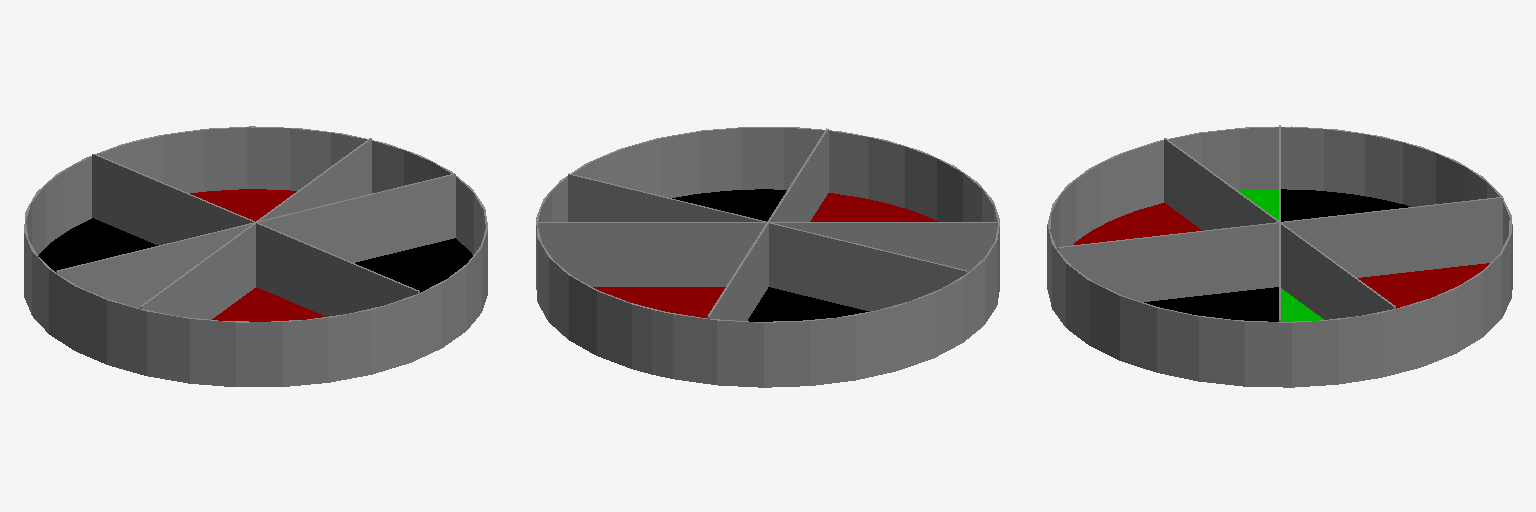
File: Roulette.obj
The picture shows the model from 3 angles: view 1: azimuth 30°, elevation 25°; view 2: azimuth 150°, elevation 25°; view 3: azimuth 270°, elevation 25°; orthographic projection.
Parts seen in each view (by area): view 1: Shape_IndexedFaceSet.003, Shape_IndexedFaceSet.002, Shape_IndexedFaceSet.004, Shape_IndexedFaceSet.001, Shape_IndexedFaceSet; view 2: Shape_IndexedFaceSet.003, Shape_IndexedFaceSet, Shape_IndexedFaceSet.004, Shape_IndexedFaceSet.001, Shape_IndexedFaceSet.002; view 3: Shape_IndexedFaceSet.003, Shape_IndexedFaceSet.002, Shape_IndexedFaceSet, Shape_IndexedFaceSet.004, Shape_IndexedFaceSet.001, Shape_IndexedFaceSet.005, Shape_IndexedFaceSet.006.
Part boxes in pixels (bbox=[...]): Shape_IndexedFaceSet.003: bbox=[24, 126, 487, 386]; Shape_IndexedFaceSet.002: bbox=[355, 238, 472, 292]; Shape_IndexedFaceSet.004: bbox=[38, 218, 157, 271]; Shape_IndexedFaceSet.001: bbox=[212, 287, 325, 321]; Shape_IndexedFaceSet: bbox=[190, 189, 296, 221]; Shape_IndexedFaceSet.003: bbox=[536, 127, 999, 387]; Shape_IndexedFaceSet: bbox=[593, 287, 725, 317]; Shape_IndexedFaceSet.004: bbox=[748, 287, 868, 321]; Shape_IndexedFaceSet.001: bbox=[810, 193, 938, 221]; Shape_IndexedFaceSet.002: bbox=[672, 189, 786, 221]; Shape_IndexedFaceSet.003: bbox=[1047, 125, 1512, 387]; Shape_IndexedFaceSet.002: bbox=[1144, 287, 1278, 321]; Shape_IndexedFaceSet: bbox=[1358, 263, 1489, 308]; Shape_IndexedFaceSet.004: bbox=[1281, 189, 1409, 221]; Shape_IndexedFaceSet.001: bbox=[1073, 203, 1201, 244]; Shape_IndexedFaceSet.005: bbox=[1281, 288, 1323, 321]; Shape_IndexedFaceSet.006: bbox=[1239, 189, 1278, 219].
Bounding box in the file's own units: 0.9893 × 0.1575 × 0.9906.